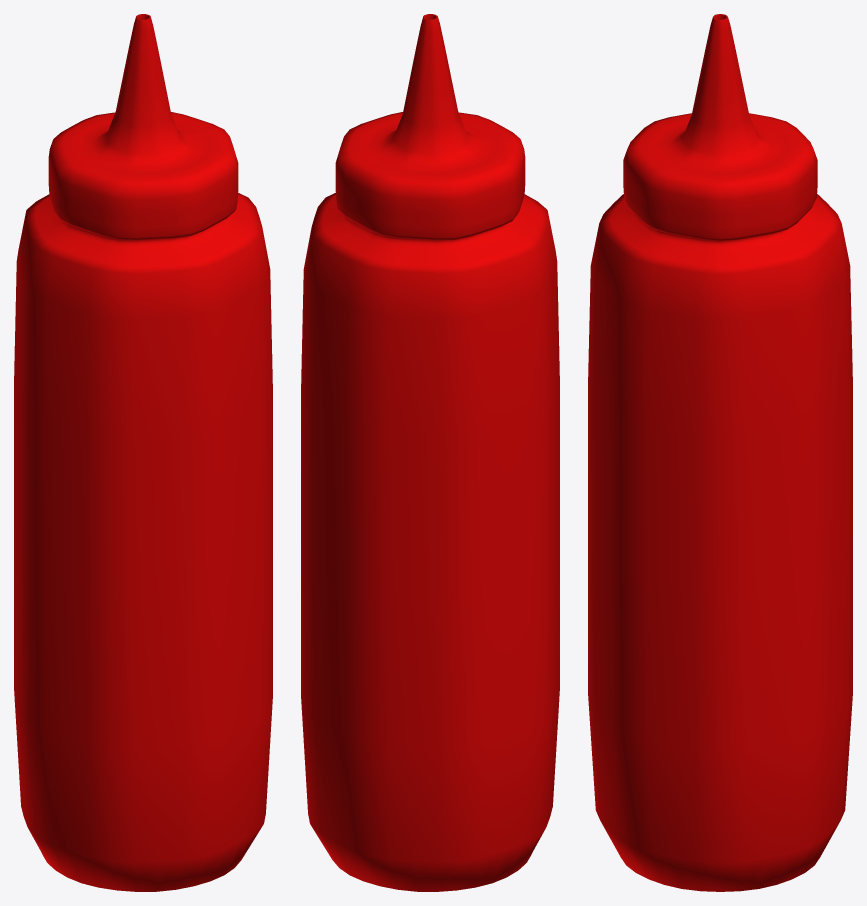
Rendered from Ketchup.fbx.
The picture shows the model from 3 angles, left to right: view 1: azimuth 30°, elevation 25°; view 2: azimuth 150°, elevation 25°; view 3: azimuth 270°, elevation 25°; orthographic projection.
Visible parts, largest first — view 1: Ketchup; view 2: Ketchup; view 3: Ketchup.
Part boxes in pixels (x1,y1,x2,y2): Ketchup: (14, 14, 272, 891); Ketchup: (301, 14, 559, 891); Ketchup: (588, 14, 852, 891).
Bounding box in the file's own units: 3.03 × 10.51 × 3.03.
